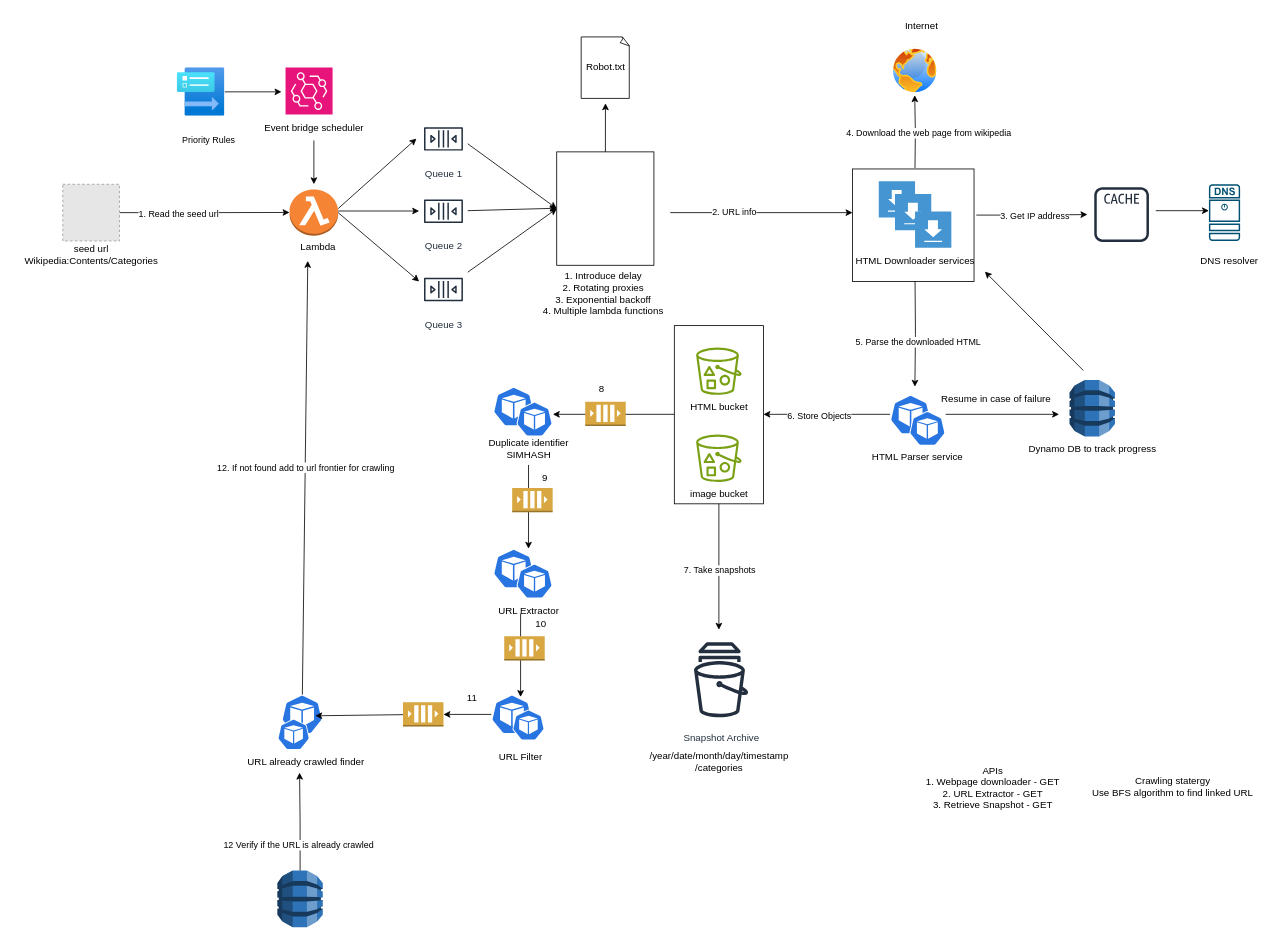
Image size: 1279x941. Some labels were removed from this diagram. Grey dashed boxes stand in for pictures. The shapes that lost their labels are listed below. From the top down, each one's centre as x and y in pixels, then its label:
At (x=605, y=208): "Queue processor".
At (x=1121, y=214): "DNS Cache".
